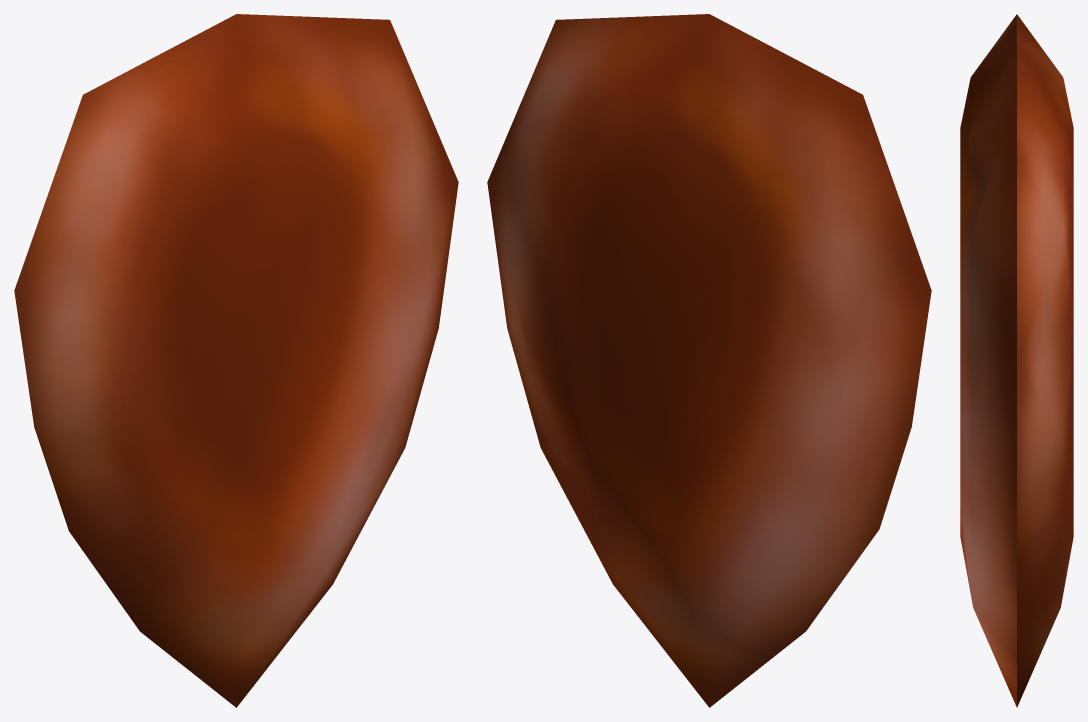
Rendered from Fire Crystal.fbx.
3 renders of one model, left to right at view 1: azimuth 30°, elevation 25°; view 2: azimuth 150°, elevation 25°; view 3: azimuth 270°, elevation 25°, orthographic. The views are drawn at different scales.
Parts seen in each view (by area): view 1: Oil_Tank; view 2: Oil_Tank; view 3: Oil_Tank.
Part boxes in pixels (bbox=[...]): Oil_Tank: bbox=[14, 14, 458, 707]; Oil_Tank: bbox=[487, 14, 931, 707]; Oil_Tank: bbox=[960, 14, 1073, 707].
Bounding box in the file's own units: 160 × 239 × 36.98.
